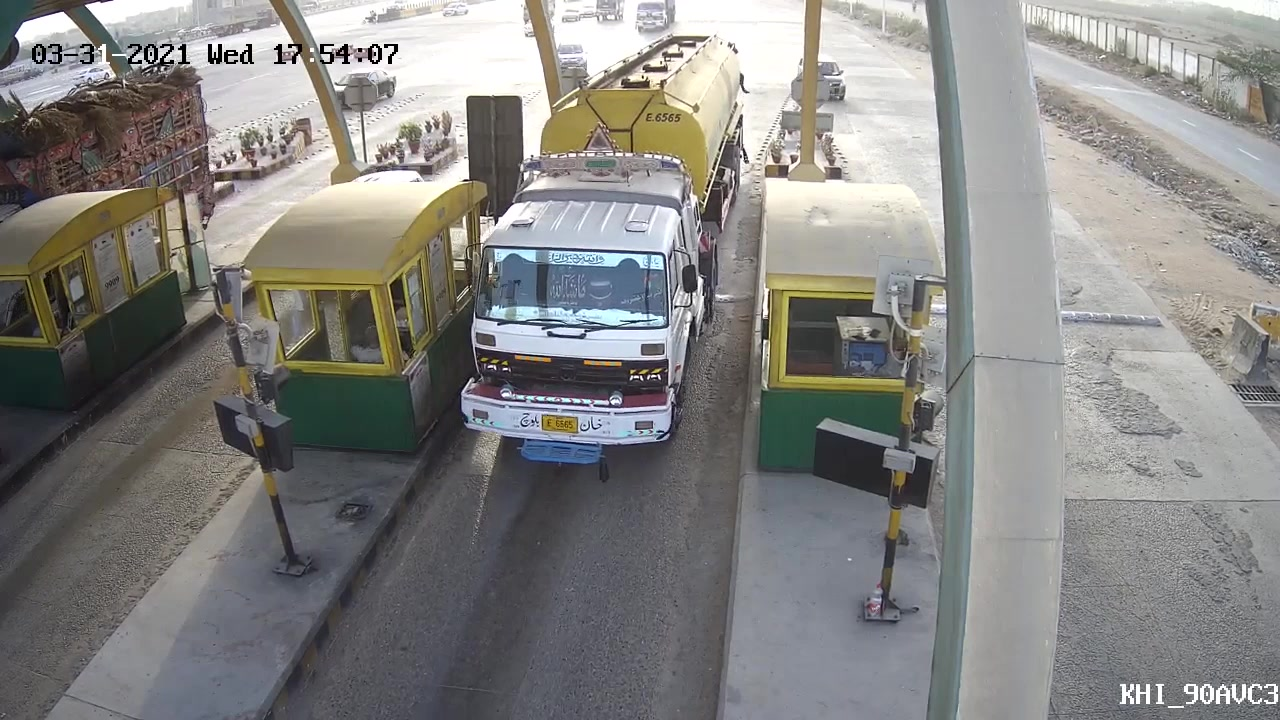F6: (451, 25, 753, 475)
